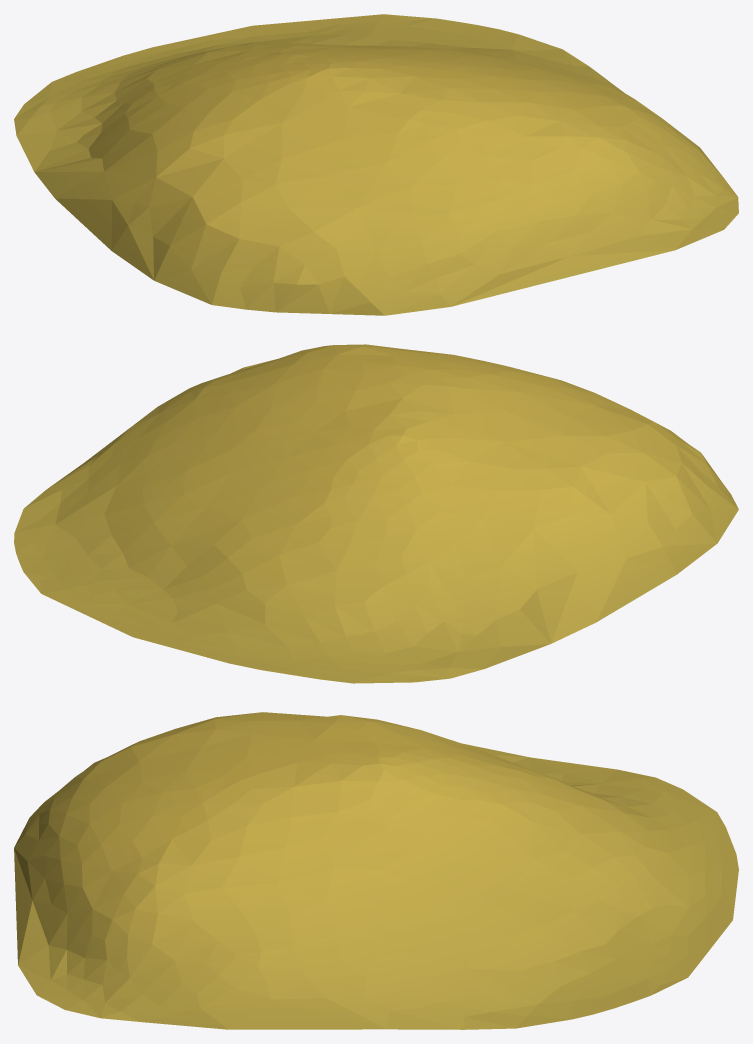
File: Hill_06.glb
The picture shows the model from 3 angles, top to bottom: view 1: azimuth 30°, elevation 25°; view 2: azimuth 150°, elevation 25°; view 3: azimuth 270°, elevation 25°; orthographic projection. The views are drawn at different scales.
Visible parts, largest first — view 1: Hill_06; view 2: Hill_06; view 3: Hill_06.
Part boxes in pixels (x1,y1,x2,y2): Hill_06: [14, 14, 738, 315]; Hill_06: [14, 344, 738, 683]; Hill_06: [14, 712, 738, 1029].
Bounding box in the file's own units: 56.43 × 9.82 × 60.8.
Materials: 1 (1 with a texture image).
